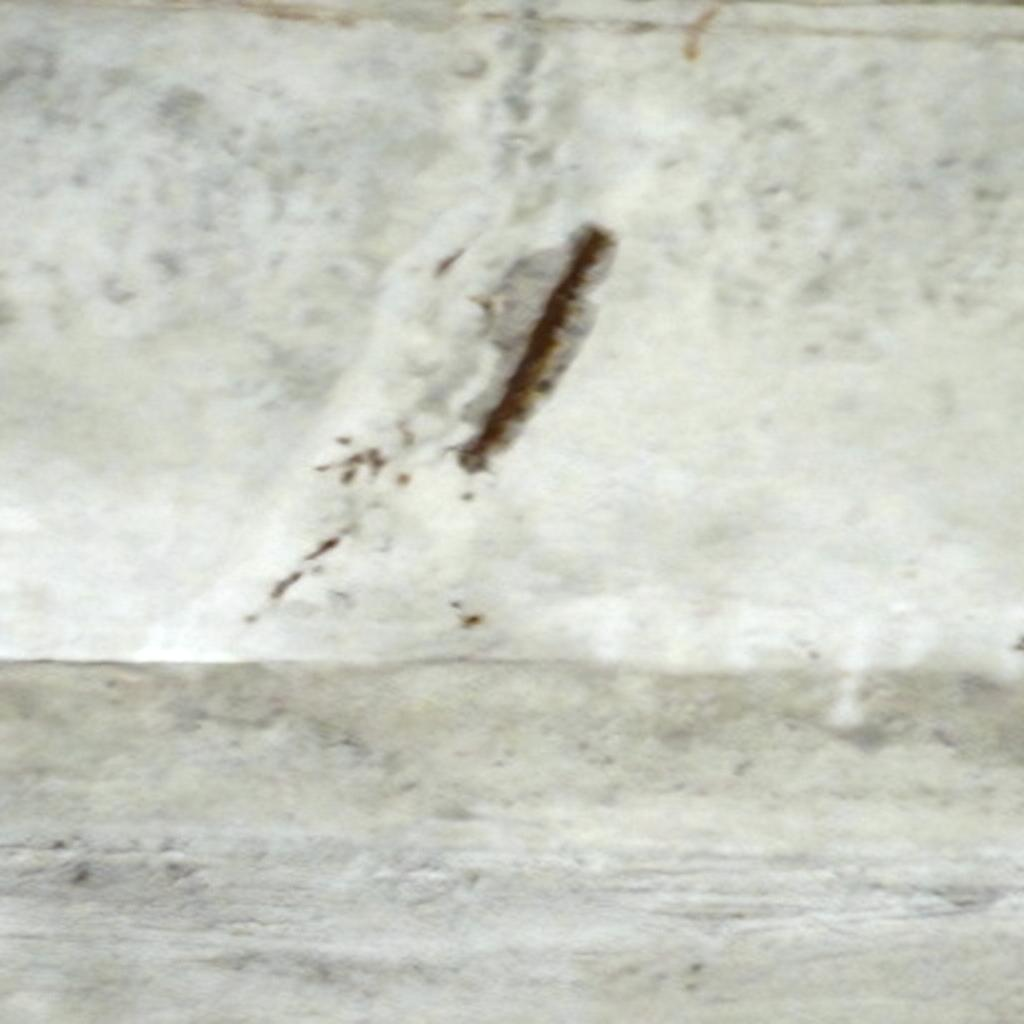exposed_rebar: (460, 226, 614, 472)
spalling: (446, 224, 616, 471)
